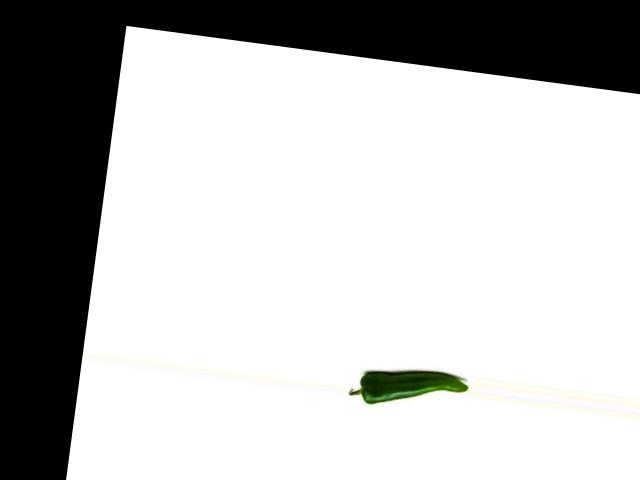bell_pepper: (343, 358, 470, 418)
